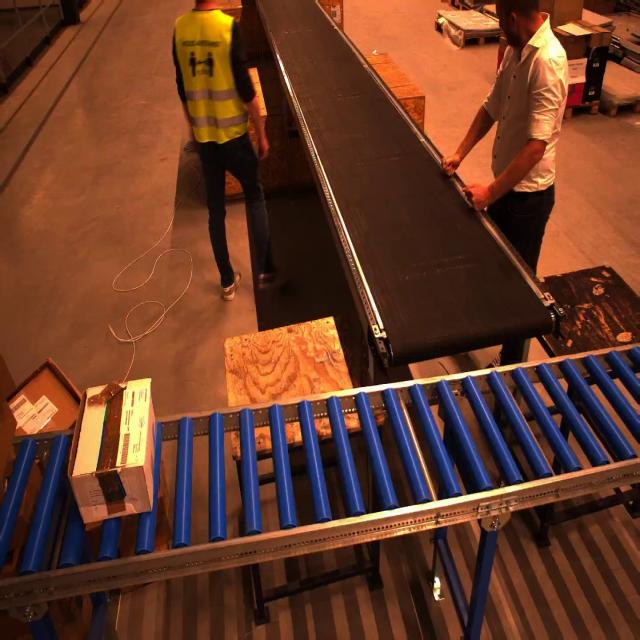box: (67, 378, 159, 522), (553, 19, 611, 57)
